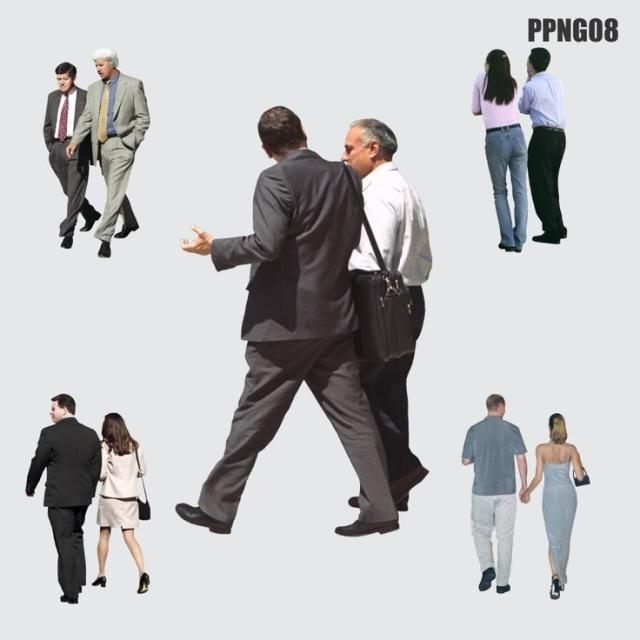person: (174, 104, 400, 536), (339, 117, 432, 513), (65, 46, 150, 258), (24, 393, 102, 604), (461, 393, 528, 594), (519, 412, 590, 599), (471, 48, 528, 252), (42, 61, 102, 249), (91, 412, 150, 594), (517, 46, 567, 244)
